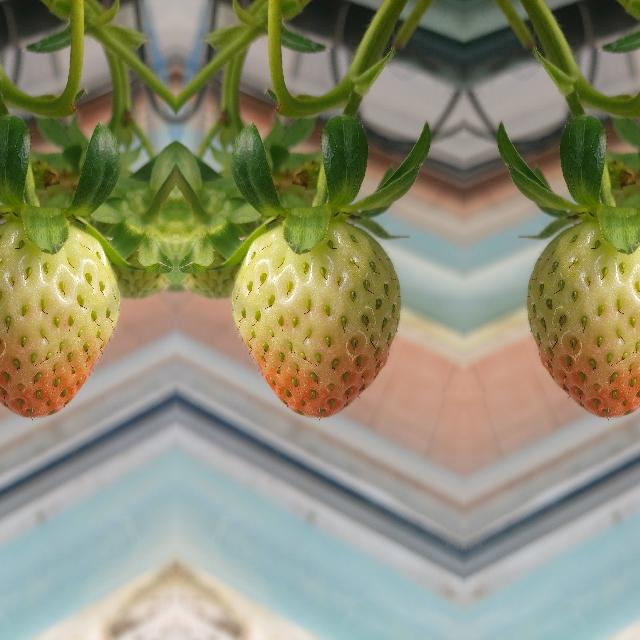Health_50: (230, 222, 400, 416), (0, 221, 119, 416), (526, 221, 640, 416)
